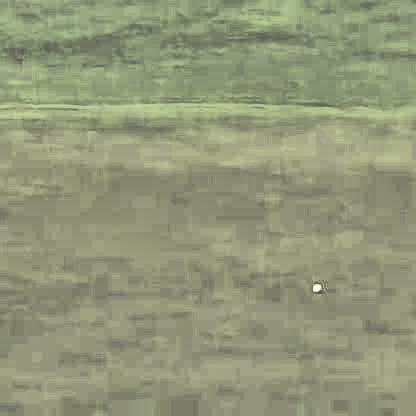golfball: (308, 280, 319, 291)
